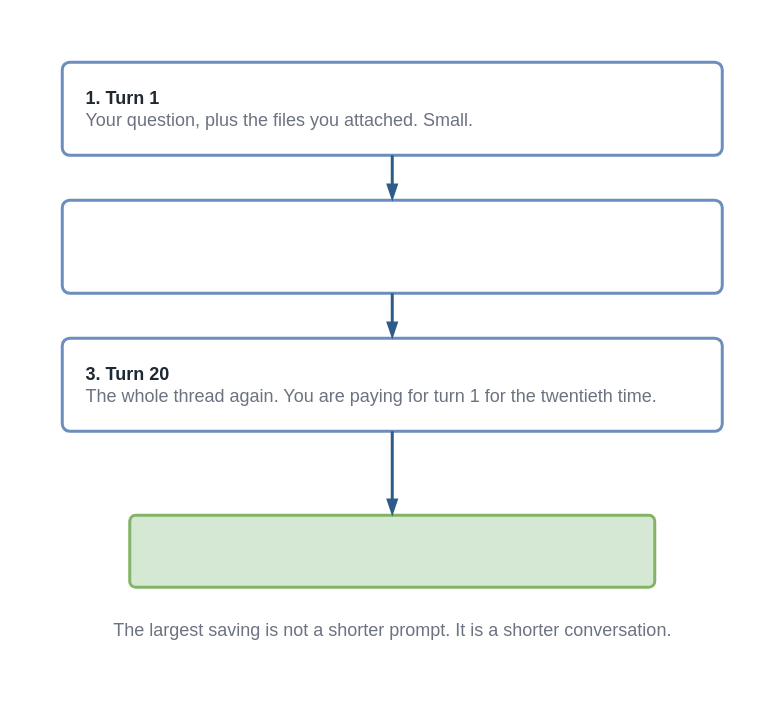
The diagram is 783 pixels wide and 708 high, and some of its shapes have lost their labels. The shapes that lost their labels are listed below. From the top down, each one's centre as x and y in pixels, then its label:
At pixel 391 246: "2. Turn 5 Everything from turn 1, re-sent, plus four more exchanges.".
At pixel 392 550: "Start a new chat at the natural boundary".
